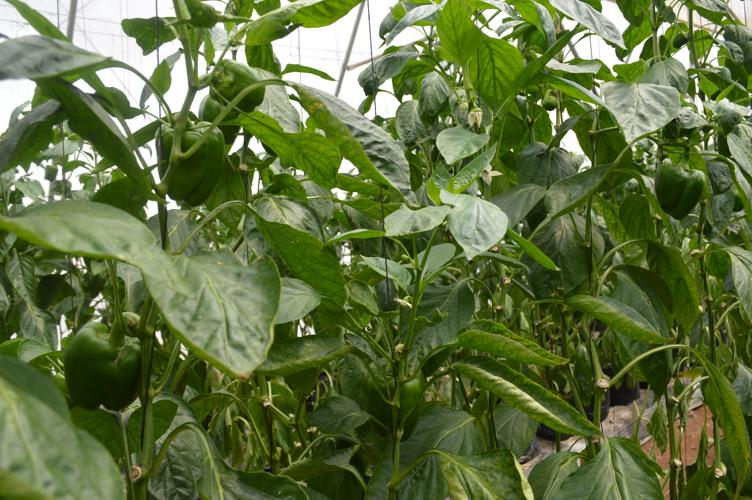BellPepper: (59, 321, 141, 414), (153, 123, 226, 207), (360, 362, 426, 444), (654, 160, 708, 222), (210, 55, 267, 111), (195, 95, 241, 138)
